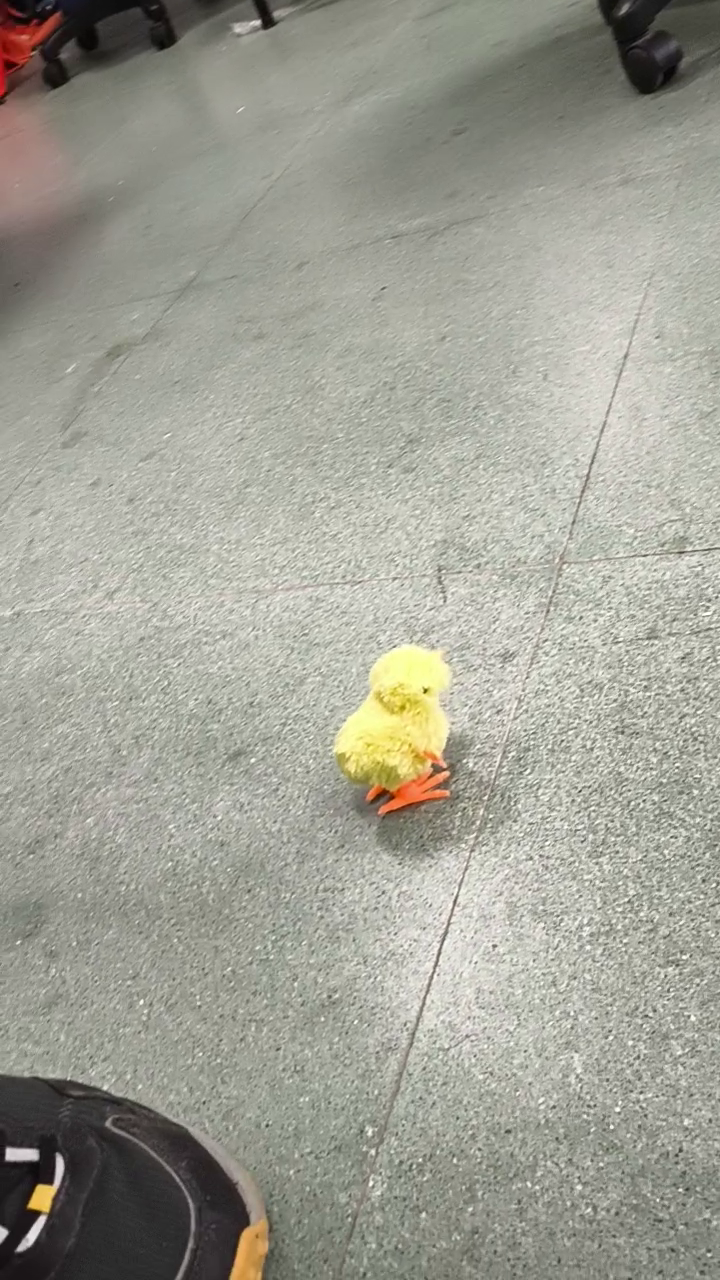yellow chicken: (329, 640, 459, 819)
